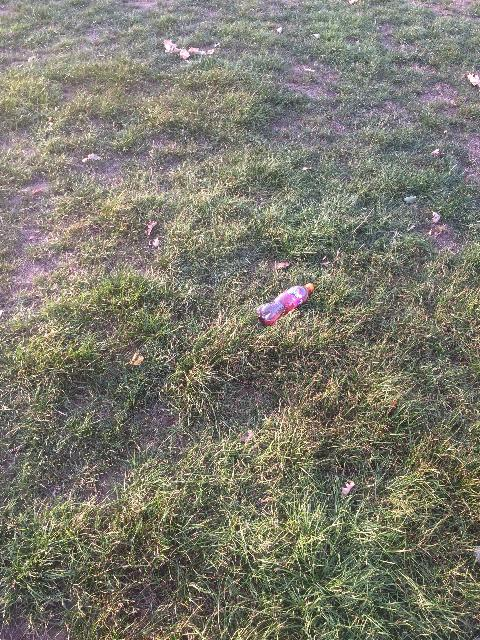plastic: (257, 283, 314, 325)
